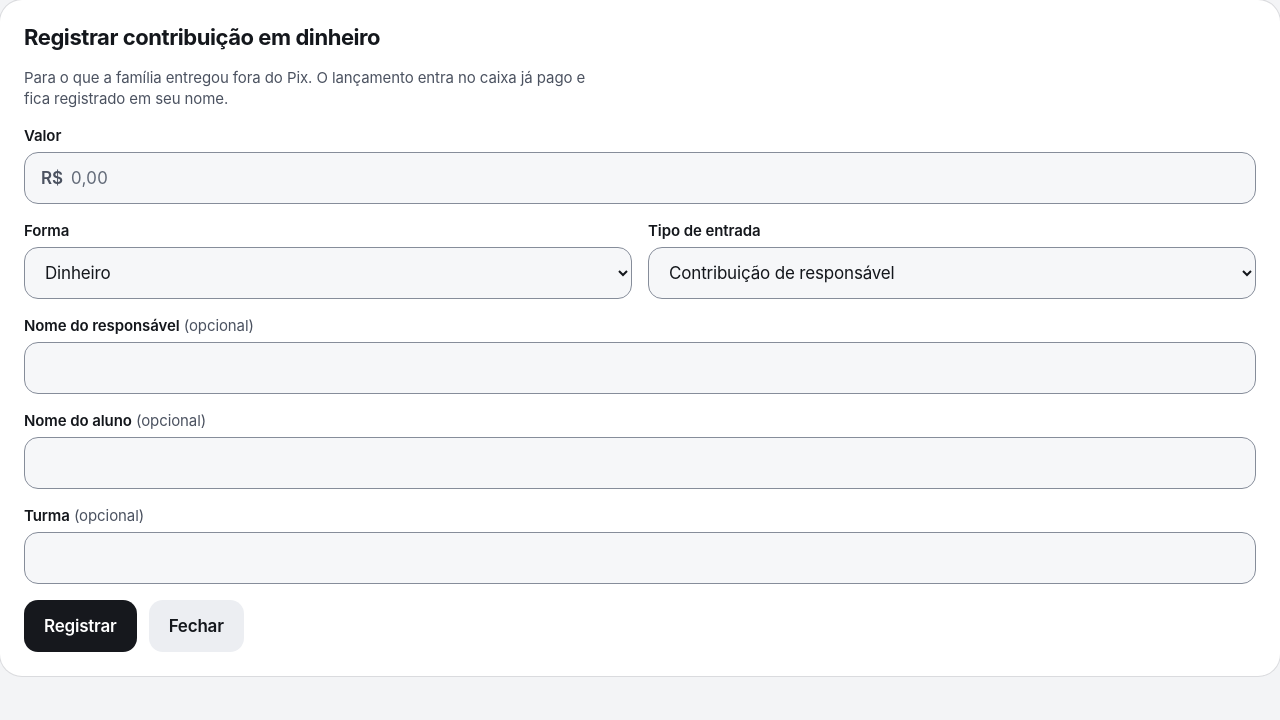
CashContributionForm › nunca grava nada em storage nem escreve a chave no console
The width and height of the screenshot is (1280, 720).
In the field labelled "Valor": (655, 178) [71,153,1239,203], type "5000"
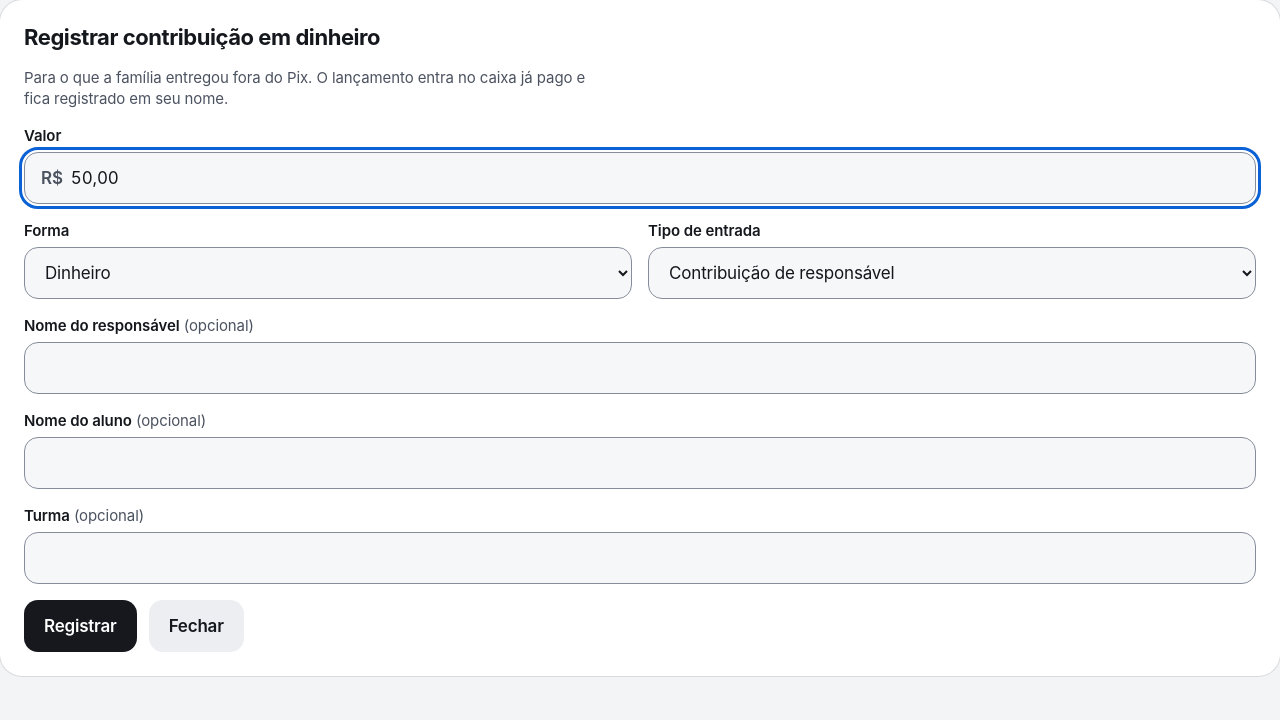
Click the button "Registrar": (80, 626) [24,600,137,652]
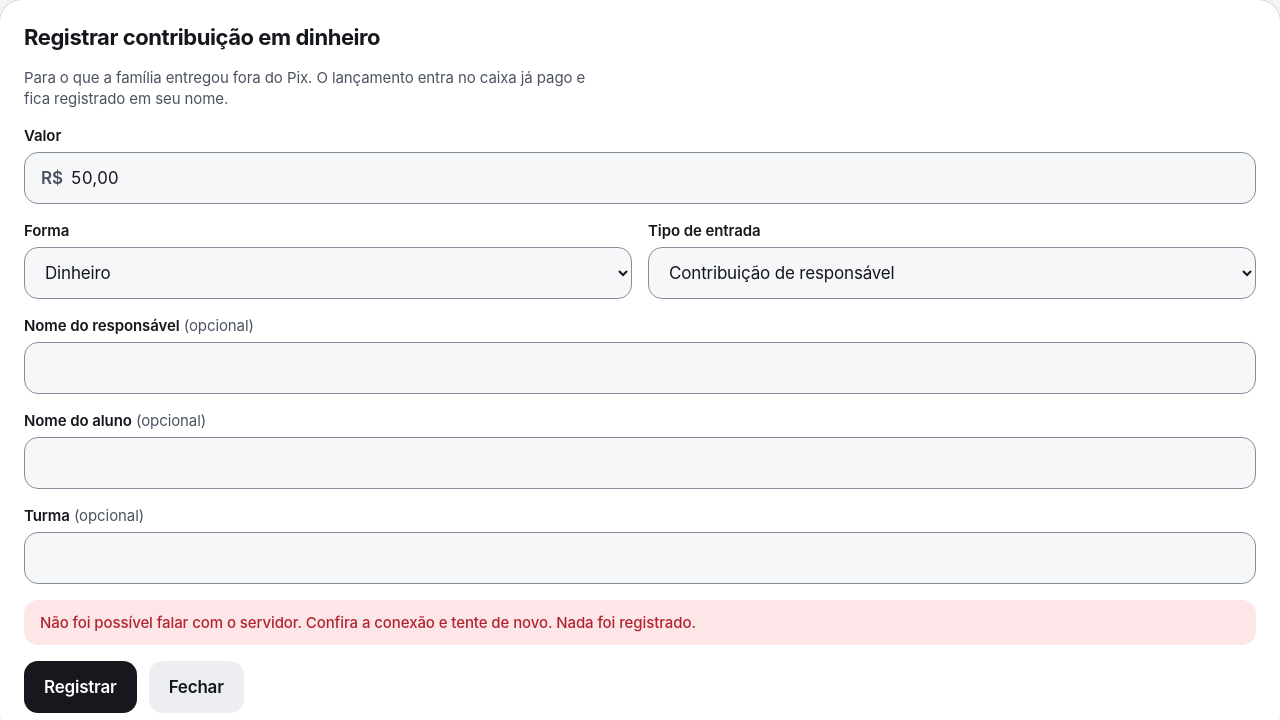
Check: the message is shown, box [24,600,1256,645]
